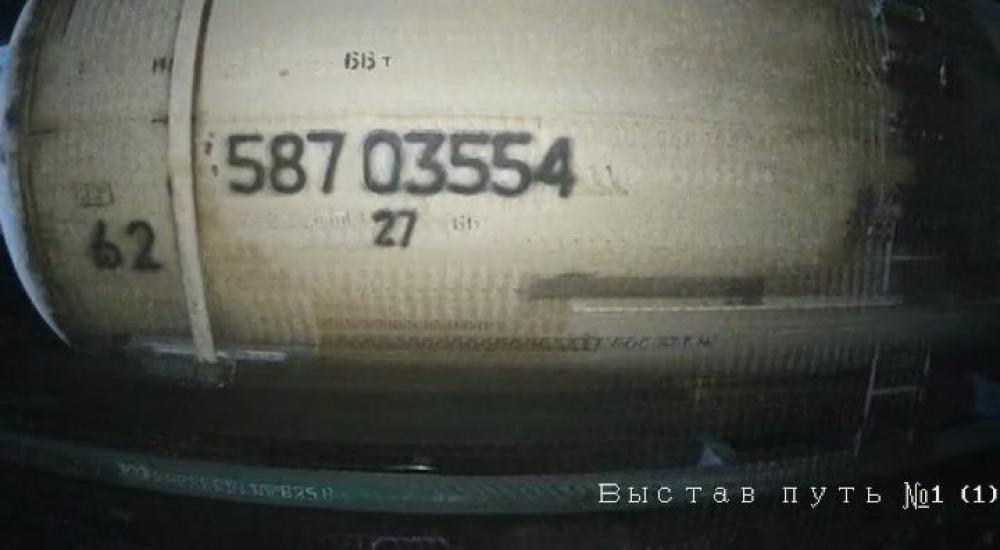Wagon-number: (221, 126, 579, 206)
